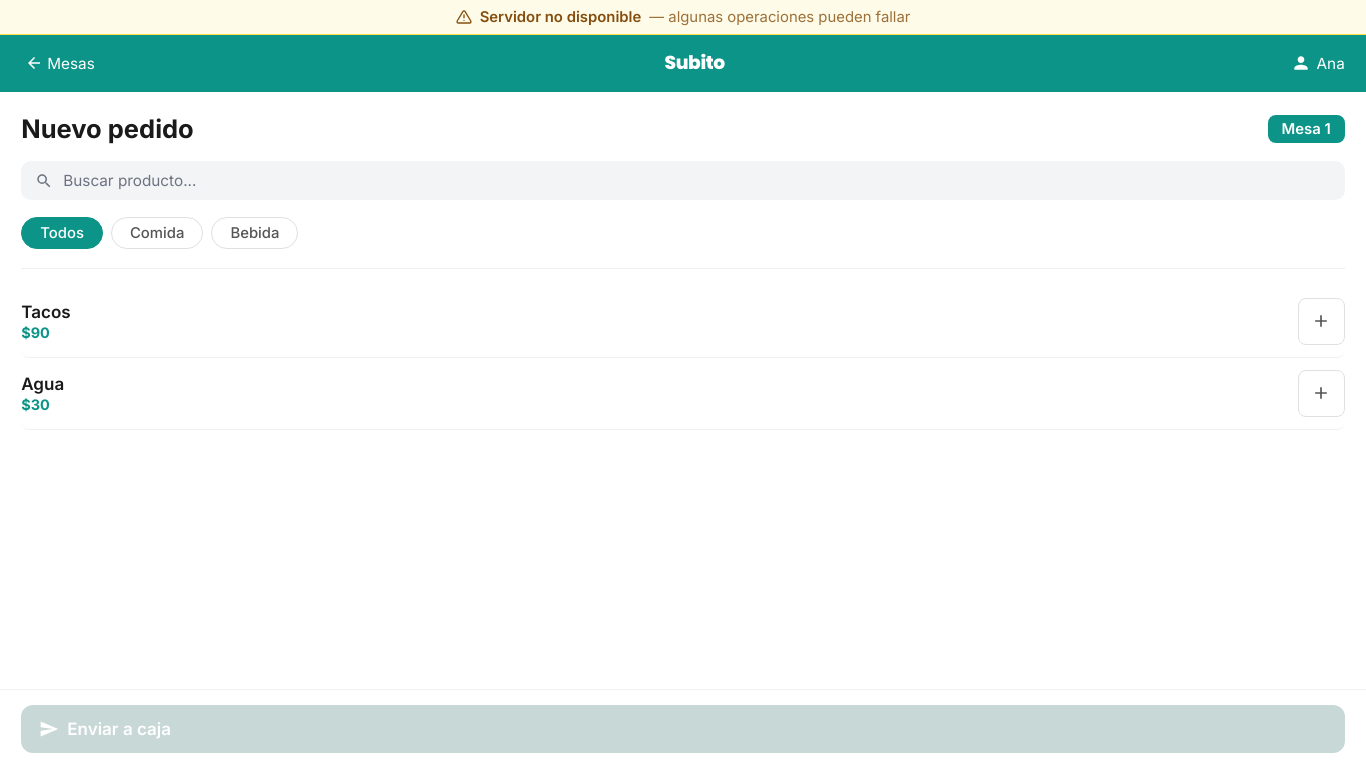
Scenario: Service — order view › filters products by search term
In the field with class "search-input": (697, 181) [63,171,1331,190], type "Taco"
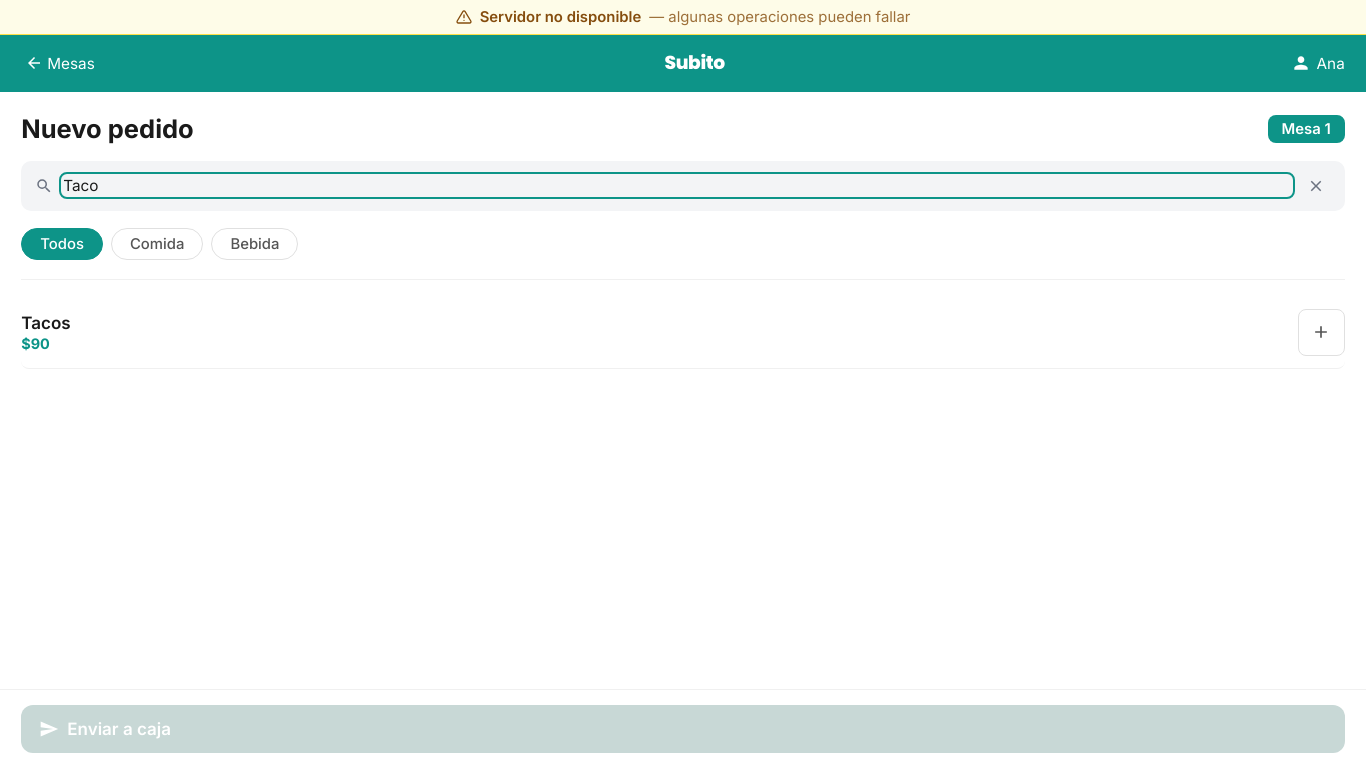
Check: the button "Tacos $90" is shown, box [21,297,1345,369]
Check: the button "Agua" is gone
